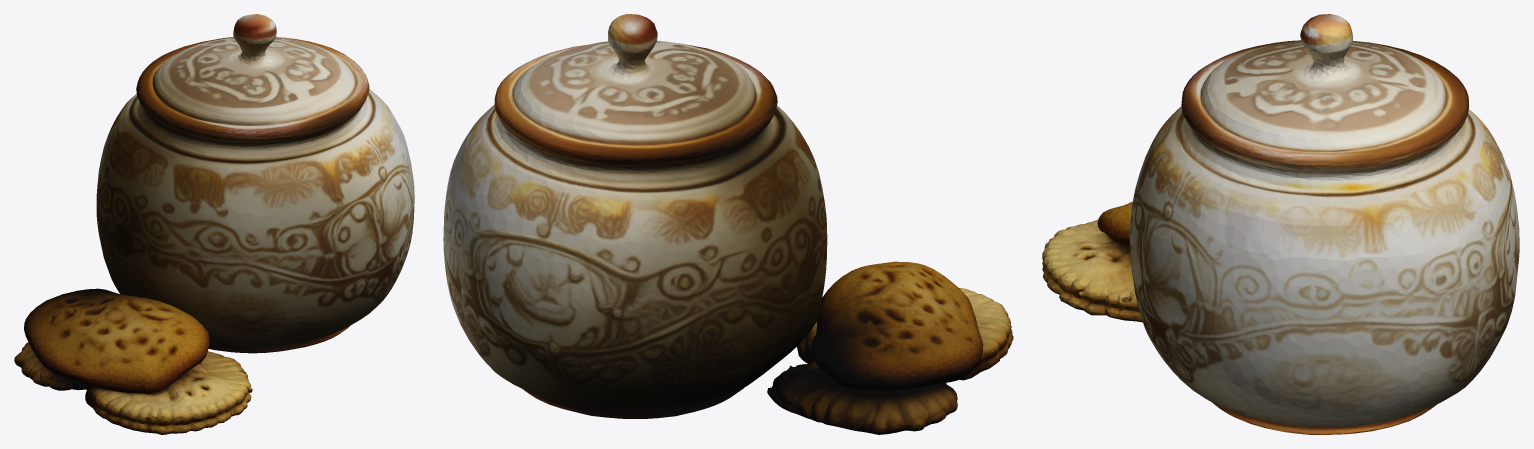
Rendered from porcelain-biscuit-jar-used-rustic-worn.jpeg.glb.
The picture shows the model from 3 angles, left to right: view 1: azimuth 30°, elevation 25°; view 2: azimuth 150°, elevation 25°; view 3: azimuth 270°, elevation 25°; orthographic projection. The views are drawn at different scales.
Visible parts, largest first — view 1: world; view 2: world; view 3: world.
Boxes of the visible parts, x1,y1,x2,y2 form: world: [14, 14, 414, 434]; world: [443, 14, 1013, 434]; world: [1042, 14, 1519, 434].
Bounding box in the file's own units: 0.9996 × 0.7314 × 0.8691.
1 material, 1 textured.
